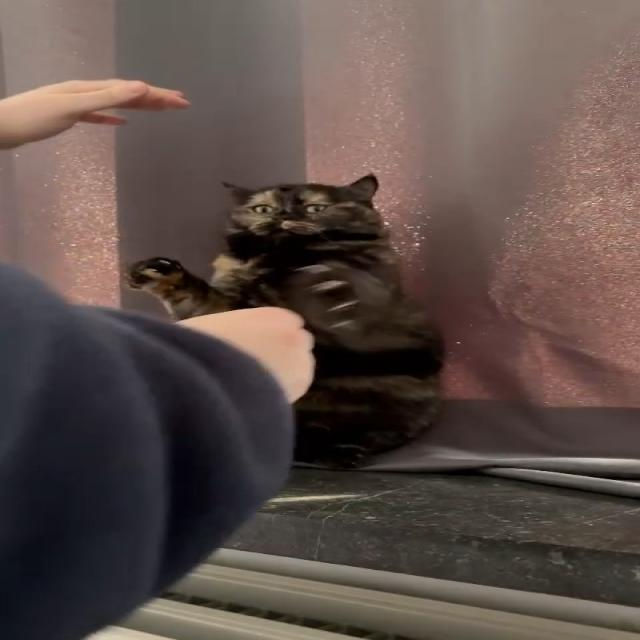authorized: (124, 173, 445, 469)
